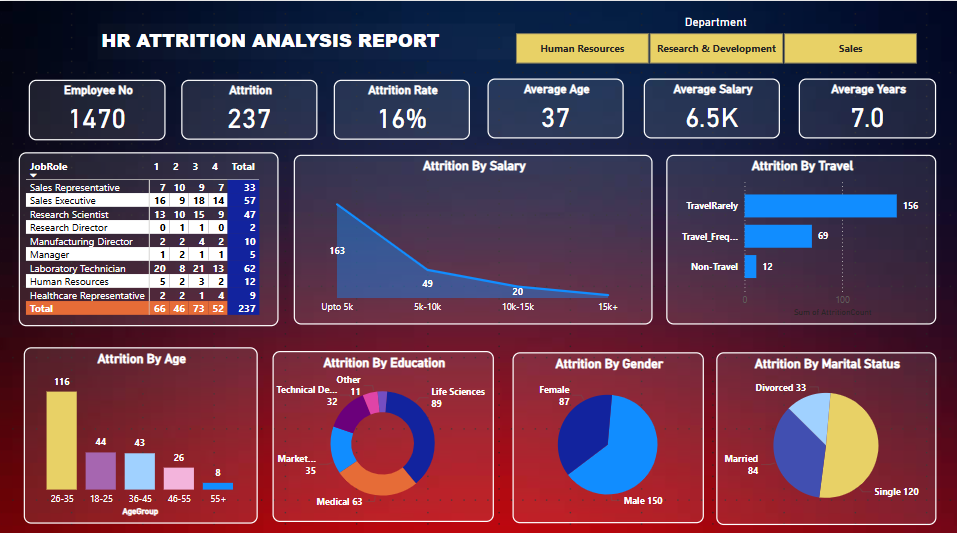

The page's visual inventory and layout, read from the dashboard file:
{"tool":"powerbi","page":{"name":"Page 1","canvas":[1280,720],"ordinal":0},"visuals":[{"type":"card","title":"Employee No","fields":{"Values":["CountNonNull(HR_Analytics.EmpID)"]},"box":[38.5,104.4,182.5,81],"z":0},{"type":"card","title":"Attrition","fields":{"Values":["Sum(HR_Analytics.AttritionCount)"]},"box":[241.7,105,181.7,80],"z":1000},{"type":"card","title":"Average Age","fields":{"Values":["Avg(HR_Analytics.Age)"]},"box":[650,103.3,181.7,80],"z":2000},{"type":"card","title":"Attrition Rate","fields":{"Values":["HR_Analytics.AttritionRate"]},"box":[445,105,181.7,80],"z":3000},{"type":"card","title":"Average Salary","fields":{"Values":["Avg(HR_Analytics.MonthlyIncome)"]},"box":[858.3,103.3,181.7,80],"z":4000},{"type":"card","title":"Average Years","fields":{"Values":["Avg(HR_Analytics.YearsAtCompany)"]},"box":[1065,103.3,183.3,80],"z":5000},{"type":"donutChart","title":"Attrition By Education","fields":{"Category":["HR_Analytics.EducationField"],"Y":["Sum(HR_Analytics.AttritionCount)"]},"box":[363.3,466.7,295,228.3],"z":6000},{"type":"columnChart","title":"Attrition By Age","fields":{"Category":["HR_Analytics.AgeGroup"],"Y":["Sum(HR_Analytics.AttritionCount)"]},"box":[31.7,461.7,311.7,235],"z":7000},{"type":"pivotTable","fields":{"Rows":["HR_Analytics.JobRole"],"Columns":["HR_Analytics.JobSatisfaction"],"Values":["Sum(HR_Analytics.AttritionCount)"]},"box":[25,201.7,346.7,231.7],"z":8000},{"type":"stackedAreaChart","title":"Attrition By Salary","fields":{"Category":["HR_Analytics.SalarySlab"],"Y":["Sum(HR_Analytics.AttritionCount)"]},"box":[391.7,205,478.3,226.7],"z":9000},{"type":"pieChart","title":"Attrition By Gender","fields":{"Y":["Sum(HR_Analytics.AttritionCount)"],"Category":["HR_Analytics.Gender"]},"box":[683.3,468.3,255,228.3],"z":10000},{"type":"slicer","title":"Department","fields":{"Values":["HR_Analytics.Department"]},"box":[661.7,18.3,585,71.7],"z":11000},{"type":"textbox","box":[130,30,556.7,48.3],"z":12000},{"type":"pieChart","title":"Attrition By Marital Status","fields":{"Y":["Sum(HR_Analytics.AttritionCount)"],"Category":["HR_Analytics.MaritalStatus"]},"box":[955,468.3,293.3,230],"z":13000},{"type":"clusteredBarChart","title":"Attrition By Travel","fields":{"Category":["HR_Analytics.BusinessTravel"],"Y":["Sum(HR_Analytics.AttritionCount)"]},"box":[888.3,205,360,226.7],"z":14000}]}

Visuals, with their boxes in screenshot pixels (x1, y1, x2, y2), scaled from the page's 1280x720 canvas onto the 957x533 screenshot:
"Employee No" card: pyautogui.locateOnScreen(29, 77, 165, 137)
"Attrition" card: pyautogui.locateOnScreen(181, 78, 317, 137)
"Average Age" card: pyautogui.locateOnScreen(486, 76, 622, 136)
"Attrition Rate" card: pyautogui.locateOnScreen(333, 78, 469, 137)
"Average Salary" card: pyautogui.locateOnScreen(642, 76, 778, 136)
"Average Years" card: pyautogui.locateOnScreen(796, 76, 933, 136)
"Attrition By Education" donutChart: pyautogui.locateOnScreen(272, 345, 492, 514)
"Attrition By Age" columnChart: pyautogui.locateOnScreen(24, 342, 257, 516)
pivotTable - HR_Analytics.JobRole x HR_Analytics.JobSatisfaction: pyautogui.locateOnScreen(19, 149, 278, 321)
"Attrition By Salary" stackedAreaChart: pyautogui.locateOnScreen(293, 152, 650, 320)
"Attrition By Gender" pieChart: pyautogui.locateOnScreen(511, 347, 702, 516)
"Department" slicer: pyautogui.locateOnScreen(495, 14, 932, 67)
textbox: pyautogui.locateOnScreen(97, 22, 513, 58)
"Attrition By Marital Status" pieChart: pyautogui.locateOnScreen(714, 347, 933, 517)
"Attrition By Travel" clusteredBarChart: pyautogui.locateOnScreen(664, 152, 933, 320)
